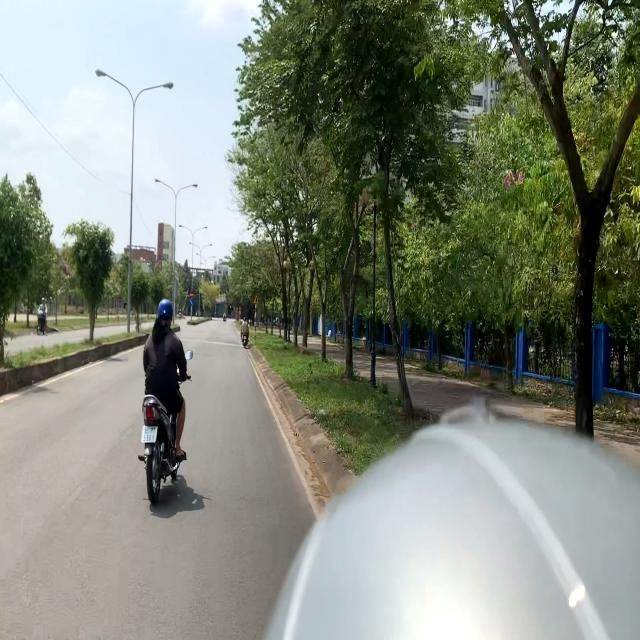bien_hieu_lenh: (253, 294, 260, 304), (189, 299, 194, 306), (189, 292, 194, 298)
